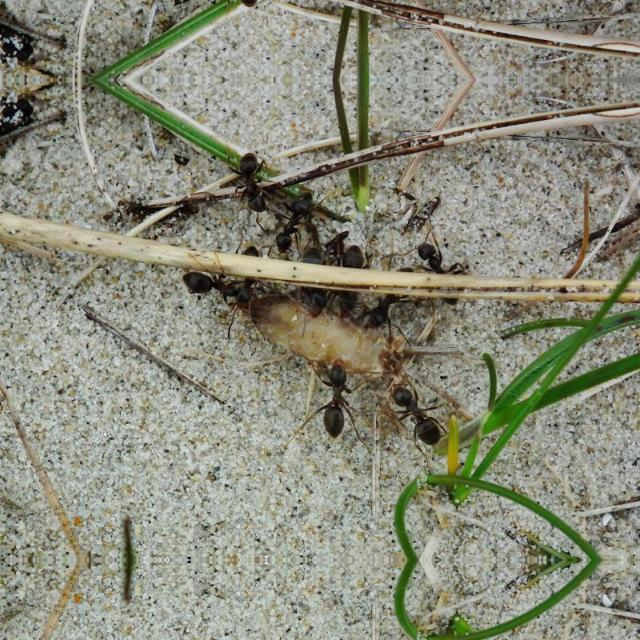Lasius: (368, 260, 430, 346), (412, 218, 473, 304), (312, 347, 361, 447), (226, 143, 278, 225), (178, 262, 256, 316), (391, 370, 445, 444), (262, 187, 318, 256), (338, 232, 370, 324), (224, 0, 277, 16)
